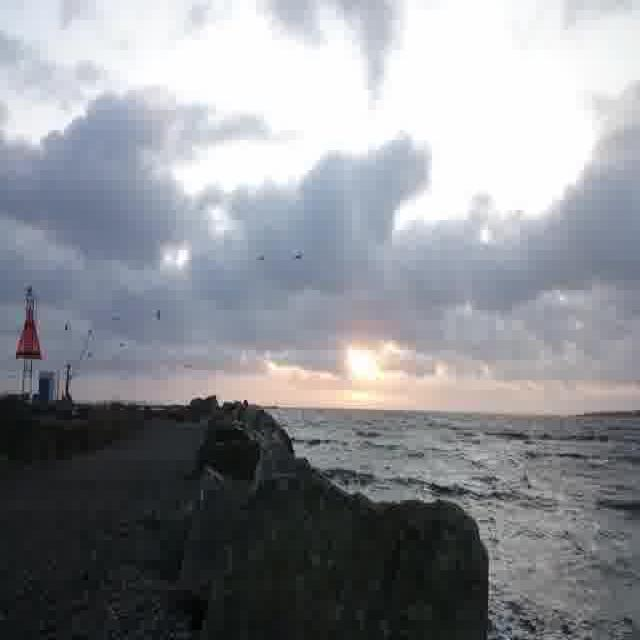bird: (144, 304, 162, 321), (250, 253, 269, 267), (176, 358, 194, 371), (106, 313, 124, 325), (290, 251, 302, 264), (117, 341, 128, 350)
